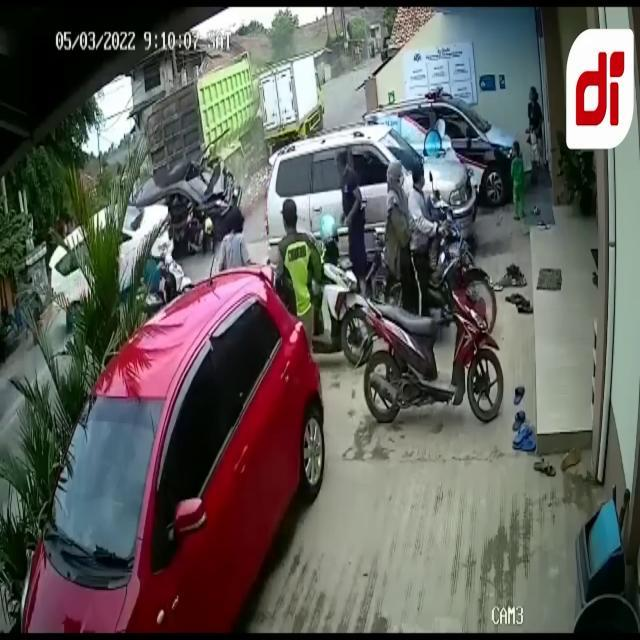multiple_accident: (130, 59, 246, 224)
normal: (173, 121, 640, 406)
